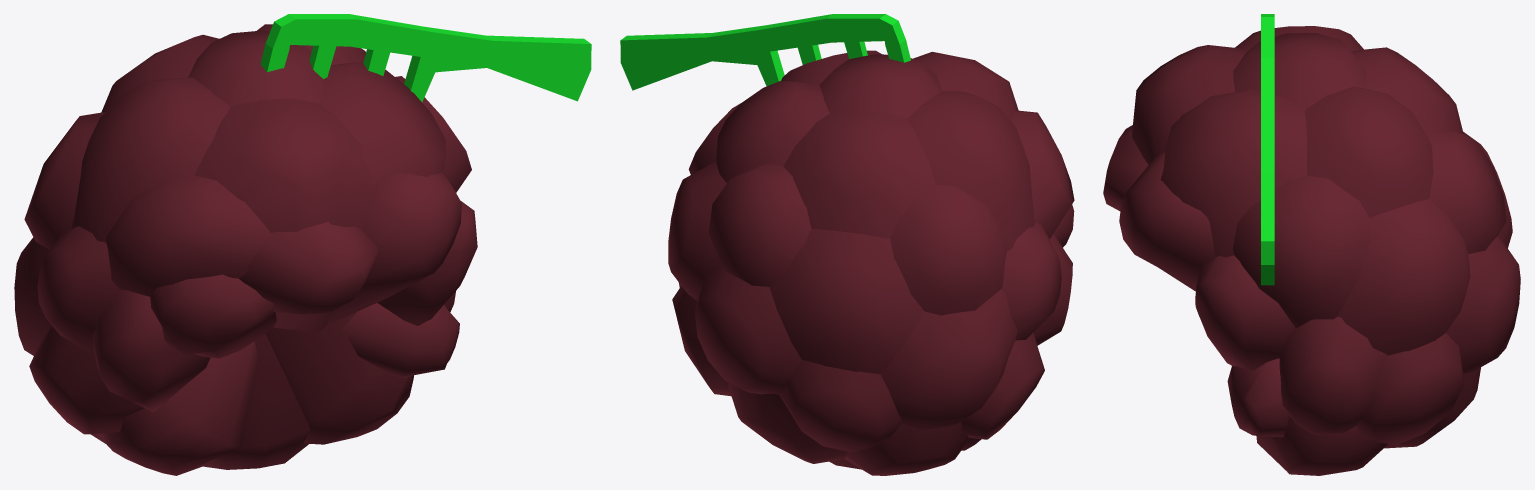
Rendered from Afro.fbx.
3 renders of one model, left to right at view 1: azimuth 30°, elevation 25°; view 2: azimuth 150°, elevation 25°; view 3: azimuth 270°, elevation 25°, orthographic. The views are drawn at different scales.
Parts seen in each view (by area): view 1: Afro; view 2: Afro; view 3: Afro.
Part boxes in pixels (left/top/right/bottom): Afro: left=14, top=14, right=591, bottom=475; Afro: left=620, top=14, right=1074, bottom=475; Afro: left=1103, top=14, right=1520, bottom=475.
Size of the model in its own units: 1.22 by 1.07 by 0.9279.
